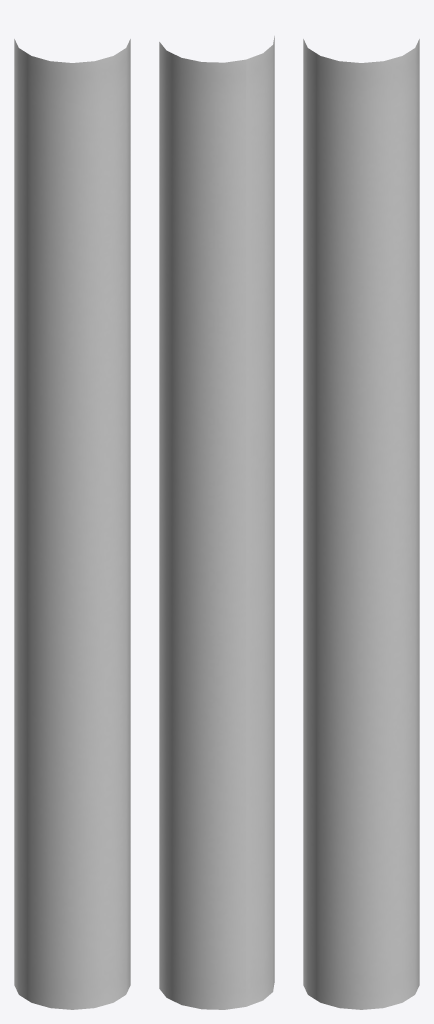
Rendered from Pillar0_5x4_5Rnd.gltf.
3 views of the same model, side by side, from view 1: azimuth 90°, elevation 25°; view 2: azimuth 210°, elevation 25°; view 3: azimuth 270°, elevation 25° (orthographic).
Parts seen in each view (by area): view 1: Pillar0_5x4_5RndShape; view 2: Pillar0_5x4_5RndShape; view 3: Pillar0_5x4_5RndShape.
Part boxes in pixels (<box>): Pillar0_5x4_5RndShape: <box>14,39,130,1009</box>; Pillar0_5x4_5RndShape: <box>159,36,274,1009</box>; Pillar0_5x4_5RndShape: <box>303,39,419,1009</box>.
Bounding box in the file's own units: 50 × 450 × 50.
Materials: 1 (1 with a texture image).
